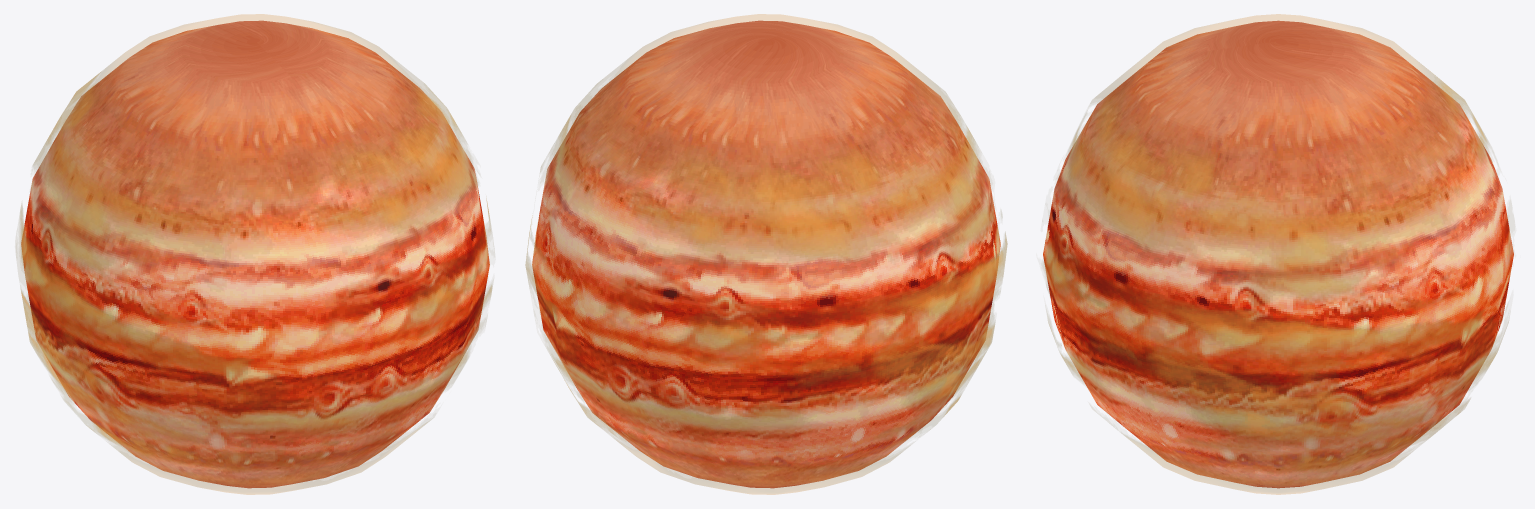
The model's file is predgas_cmp.gltf.
3 renders of one model, left to right at view 1: azimuth 30°, elevation 25°; view 2: azimuth 150°, elevation 25°; view 3: azimuth 270°, elevation 25°, orthographic.
Visible parts, largest first — view 1: Root, clouds; view 2: Root, clouds; view 3: Root, clouds.
Boxes of the visible parts, x1,y1,x2,y2 form: Root: [21, 20, 489, 488]; clouds: [16, 14, 492, 494]; Root: [532, 20, 1000, 488]; clouds: [525, 14, 1007, 494]; Root: [1043, 20, 1513, 488]; clouds: [1042, 14, 1509, 494].
Bounding box in the file's own units: 44.28 × 44.28 × 44.28.
2 materials, 2 textured.
